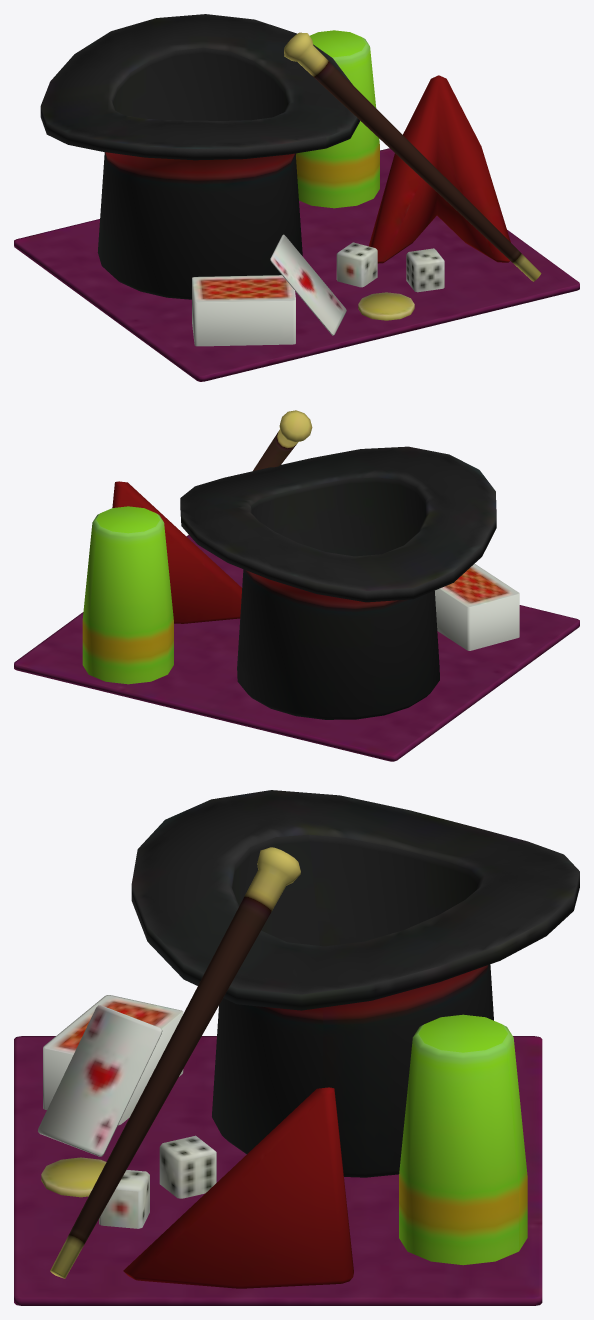
The picture shows the model from 3 angles, top to bottom: view 1: azimuth 30°, elevation 25°; view 2: azimuth 150°, elevation 25°; view 3: azimuth 270°, elevation 25°; orthographic projection. The views are drawn at different scales.
Bounding box in the file's own units: 8.81 × 4.92 × 7.7.
1 material, 1 textured.
